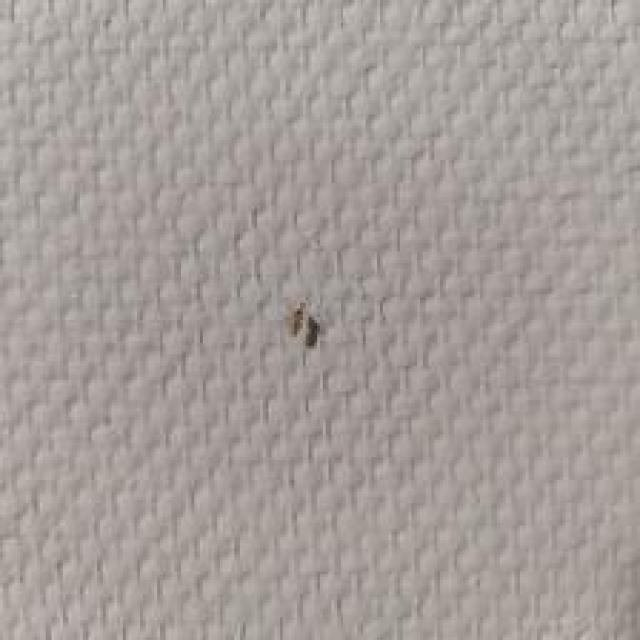Culex: (286, 297, 320, 366)
